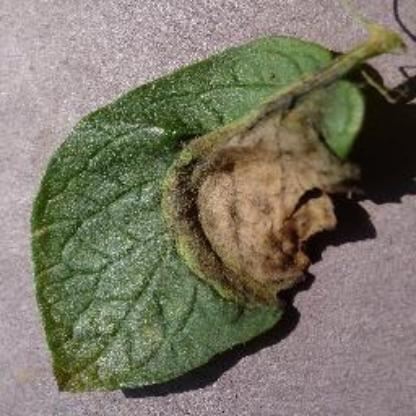Late-Blight: (30, 19, 408, 397)
